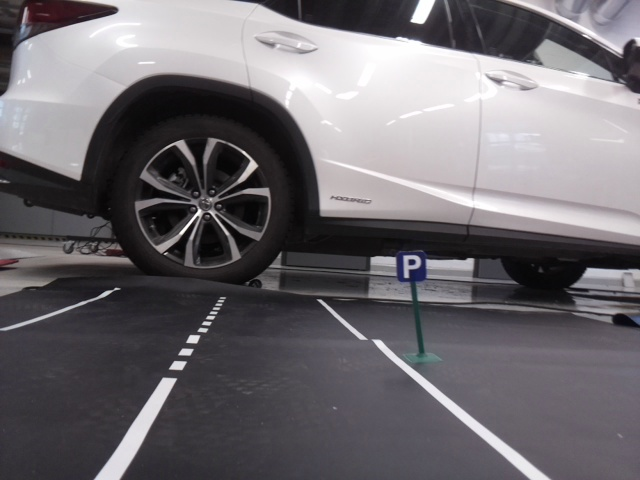Parking: (395, 251, 426, 283)
